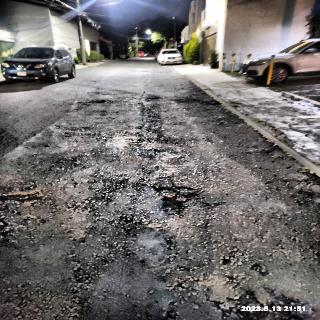alligator-crack: (155, 174, 207, 224)
crack: (93, 173, 154, 231), (141, 75, 168, 171), (18, 160, 48, 240), (269, 168, 320, 215)
